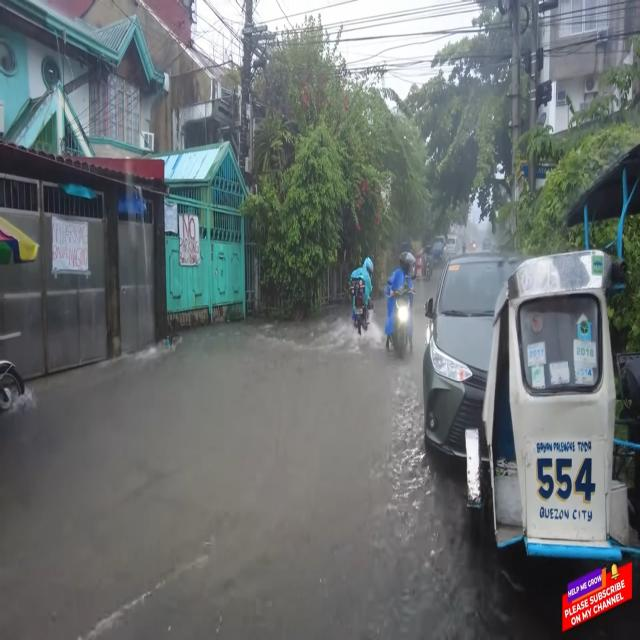full: (360, 252, 376, 280)
half: (397, 248, 417, 278)
